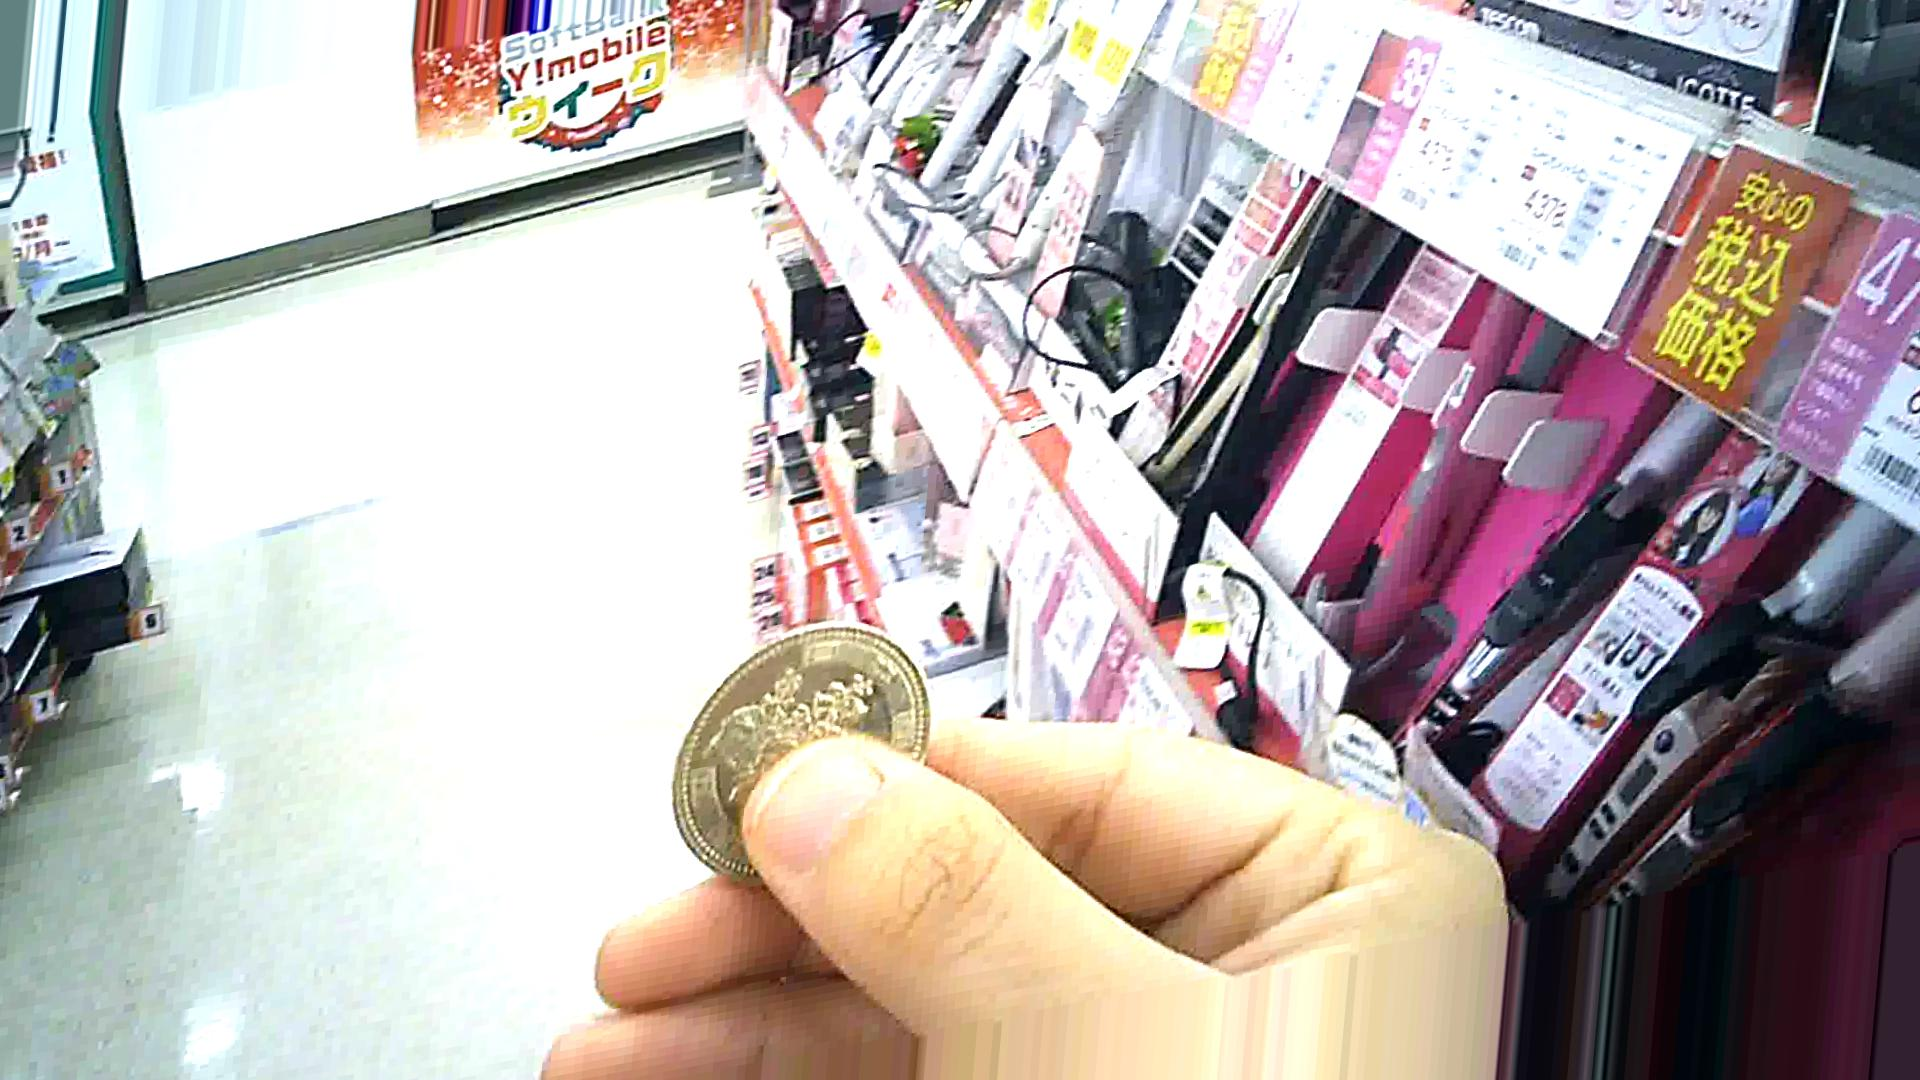500 Yen: (659, 615, 934, 895)
